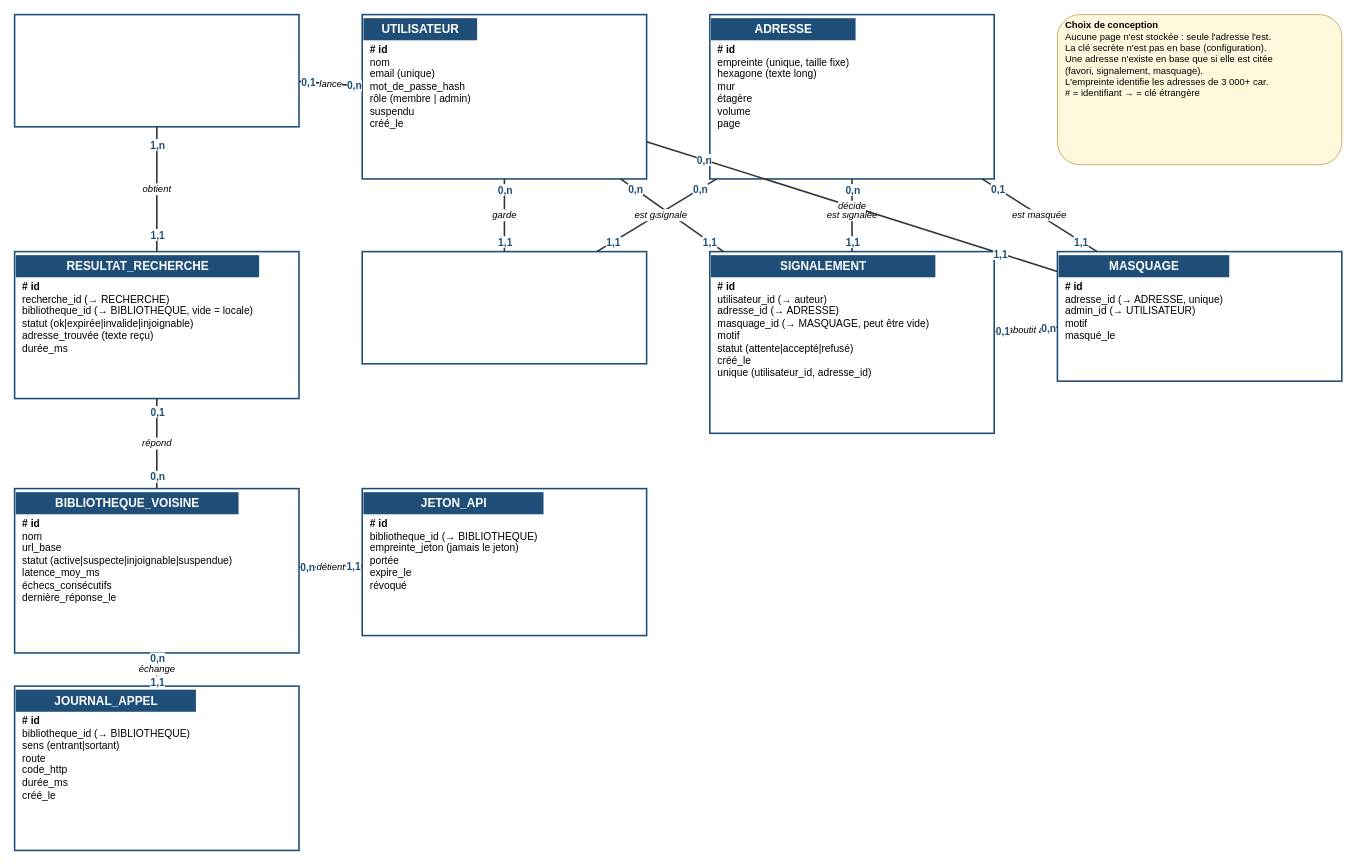
The diagram is 1356 pixels wide and 864 high, and some of its shapes have lost their labels. The shapes that lost their labels are listed below. From the top down, each one's centre as x and y in pixels, then its label:
(x=156, y=70): RECHERCHE # id utilisateur_id (→ UTILISATEUR, peut être vide) texte créée_le
(x=504, y=307): FAVORI # utilisateur_id (→ UTILISATEUR) # adresse_id (→ ADRESSE) note ajouté_le
